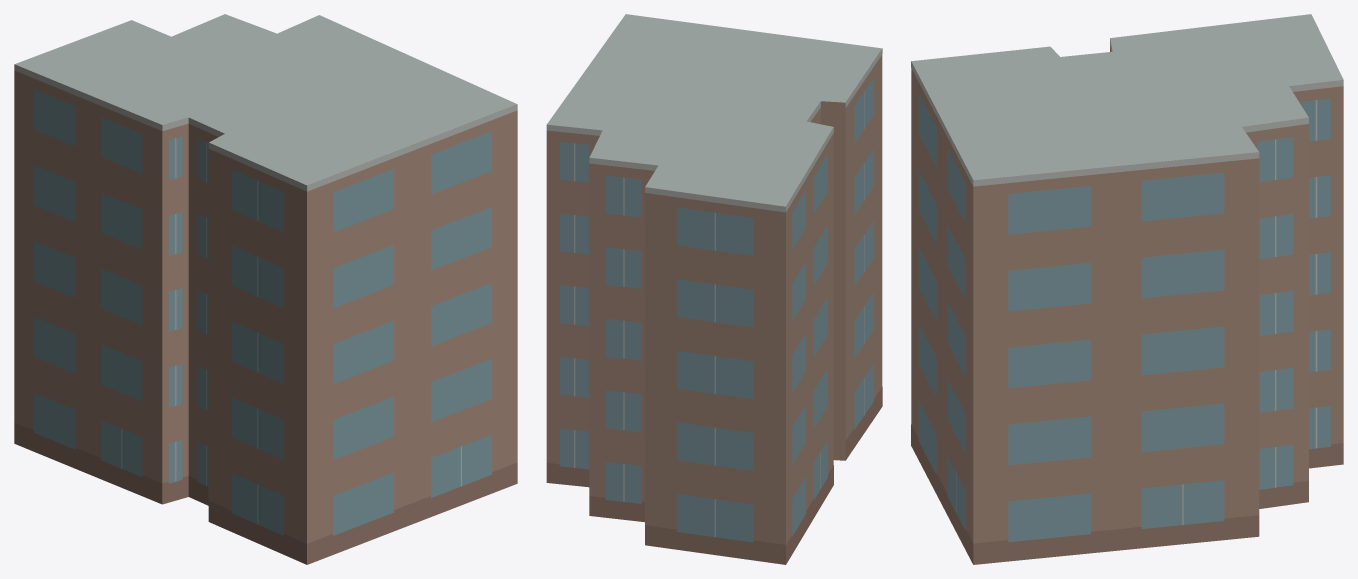
Rendered from survey-upis-32496770.glb.
The picture shows the model from 3 angles, left to right: view 1: azimuth 30°, elevation 25°; view 2: azimuth 150°, elevation 25°; view 3: azimuth 270°, elevation 25°; orthographic projection. The views are drawn at different scales.
Parts seen in each view (by area): view 1: survey-upis-32496770.tmp; view 2: survey-upis-32496770.tmp; view 3: survey-upis-32496770.tmp.
Part boxes in pixels (bbox=[...]): survey-upis-32496770.tmp: bbox=[14, 14, 517, 564]; survey-upis-32496770.tmp: bbox=[546, 14, 882, 564]; survey-upis-32496770.tmp: bbox=[911, 14, 1343, 564].
Bounding box in the file's own units: 14.02 × 15.1 × 15.41.
